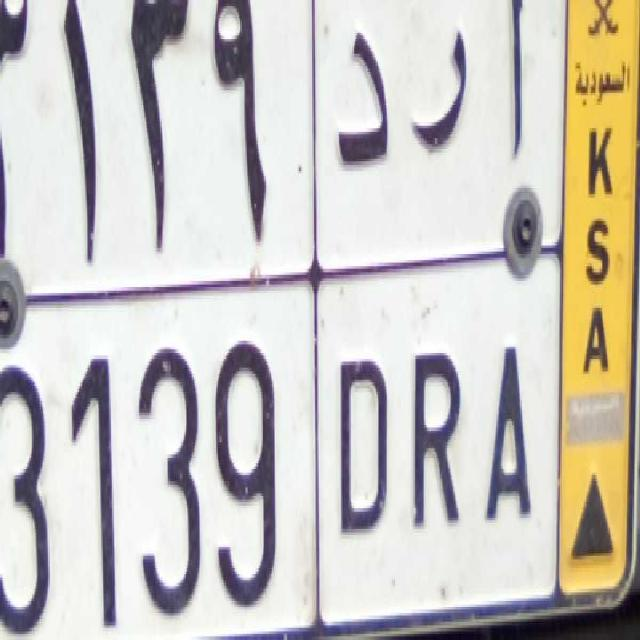license_plate: (0, 264, 557, 640)
